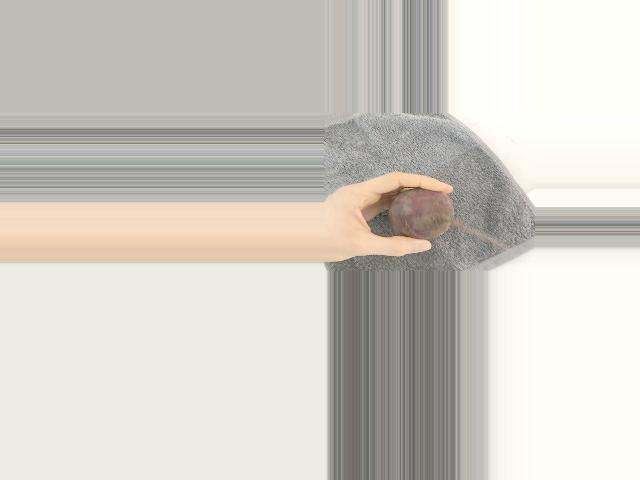beet: (388, 188, 453, 239)
